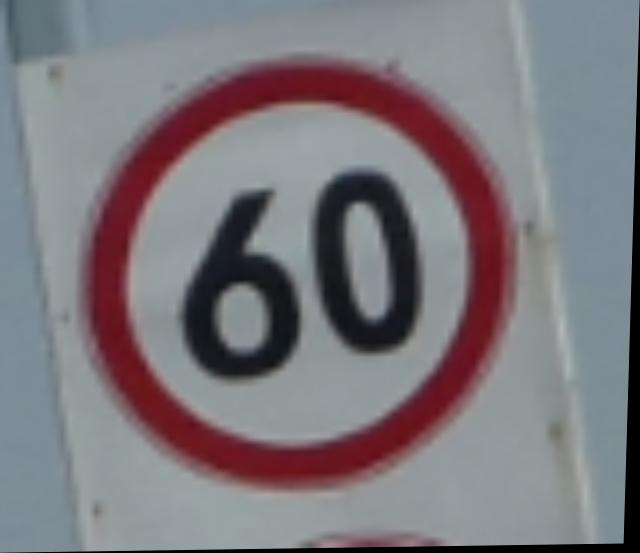limit60: (66, 41, 531, 504)
